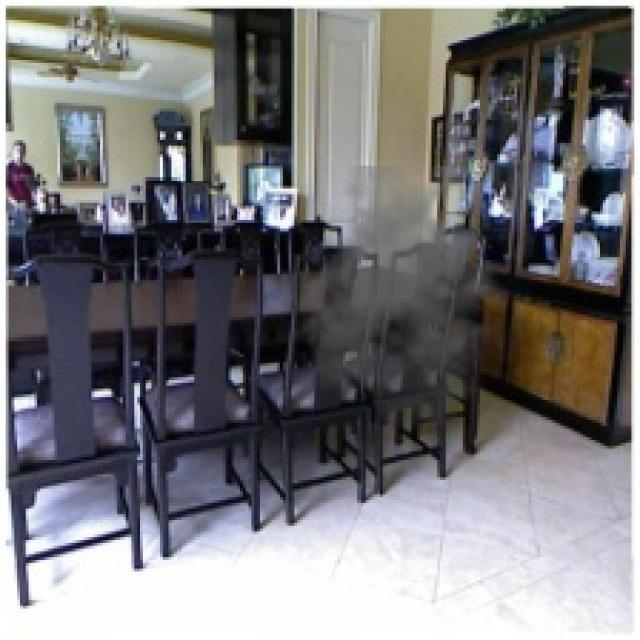smoke: (288, 166, 523, 431)
